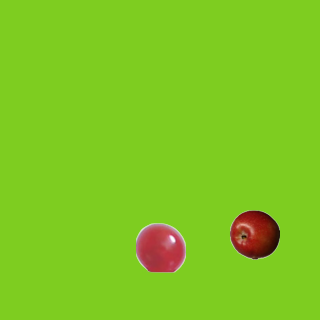Apple Braeburn: (229, 209, 279, 259)
Redcurrant: (135, 222, 185, 272)
